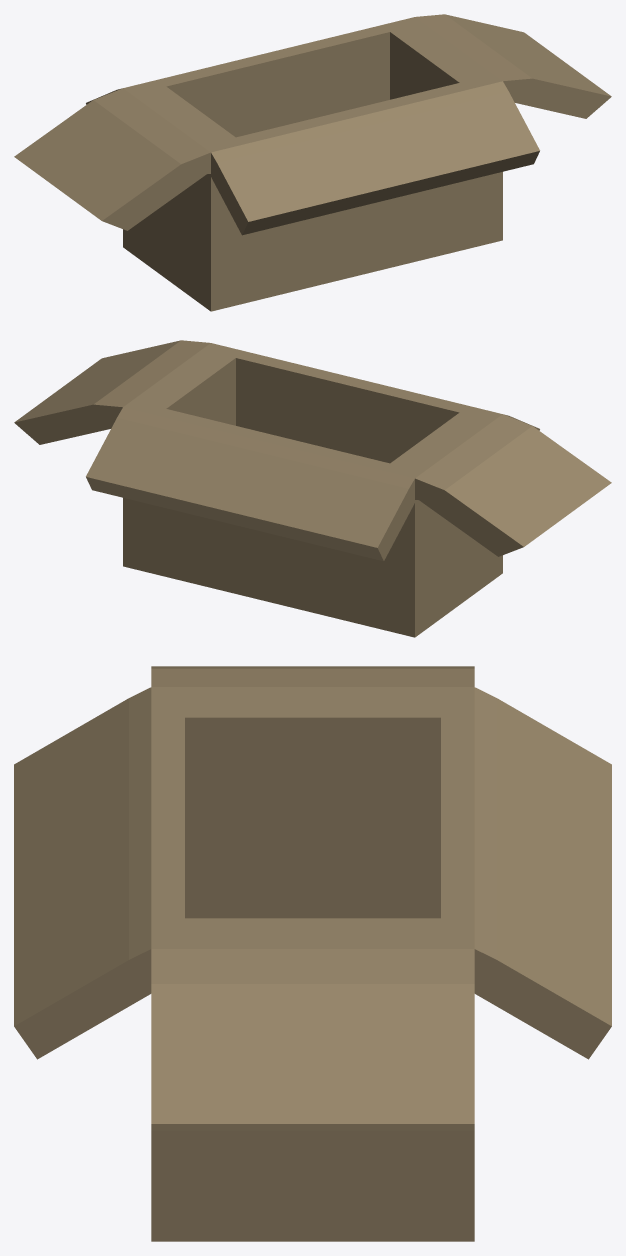
The model's file is Pappeske stor brett ned.fbx.
The picture shows the model from 3 angles, top to bottom: view 1: azimuth 30°, elevation 25°; view 2: azimuth 150°, elevation 25°; view 3: azimuth 270°, elevation 25°; orthographic projection. The views are drawn at different scales.
Visible parts, largest first — view 1: pCube2; view 2: pCube2; view 3: pCube2.
Part boxes in pixels (x1=…): pCube2: x1=14, y1=14, x2=611, y2=311; pCube2: x1=14, y1=340, x2=611, y2=637; pCube2: x1=14, y1=666, x2=611, y2=1241.
Bounding box in the file's own units: 316 × 94.27 × 175.
